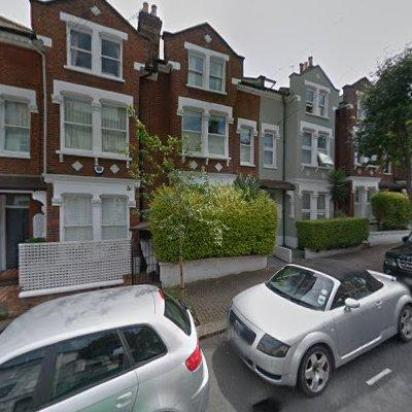stationary-car-onstreet: (225, 254, 411, 410), (0, 285, 208, 411), (380, 222, 412, 292)
